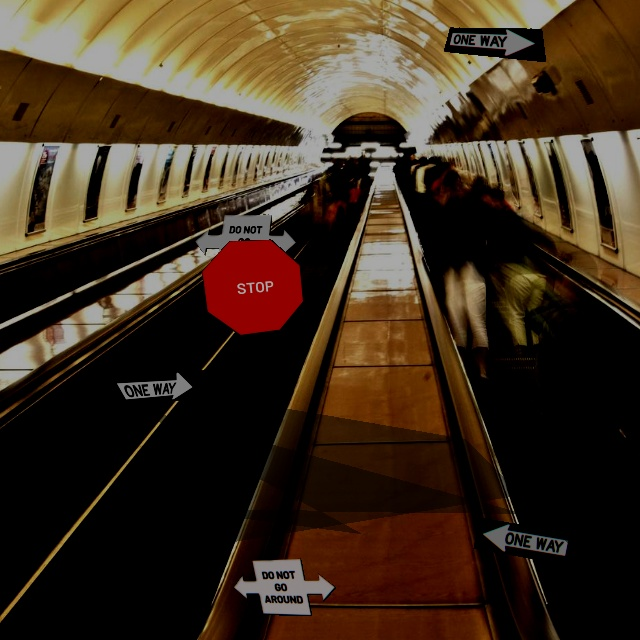DO_NOT_GO_AROUND: (194, 214, 297, 272), (233, 558, 336, 616)
ONE_WAY_ left: (473, 517, 576, 565)
ONE_WAY_ right: (102, 369, 205, 406), (443, 27, 546, 62)
STOP: (201, 239, 304, 336)
